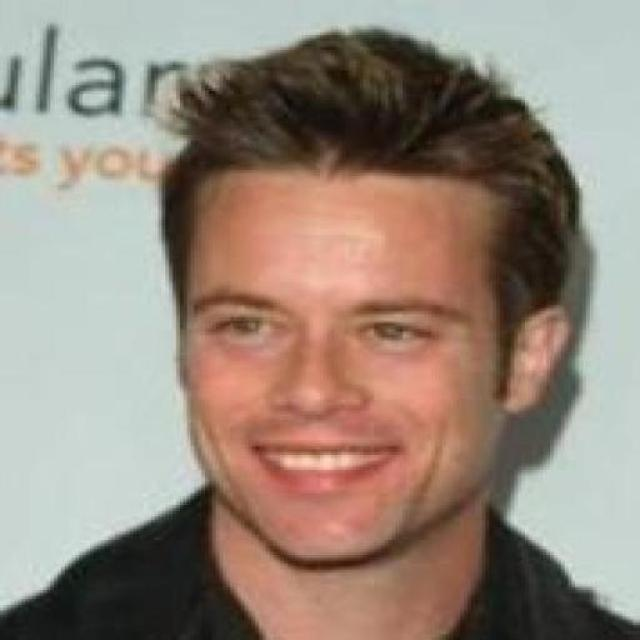bareface: (134, 70, 516, 574)
